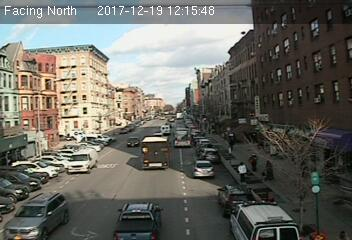car: (5, 190, 69, 240), (113, 203, 169, 240), (218, 183, 253, 213), (192, 159, 215, 179), (201, 147, 220, 164), (128, 137, 139, 147)
pedestrian: (262, 160, 274, 183), (237, 161, 249, 183)
police: (229, 201, 302, 240)
truck: (67, 148, 97, 173), (174, 128, 192, 147)
ups: (139, 136, 169, 170)
